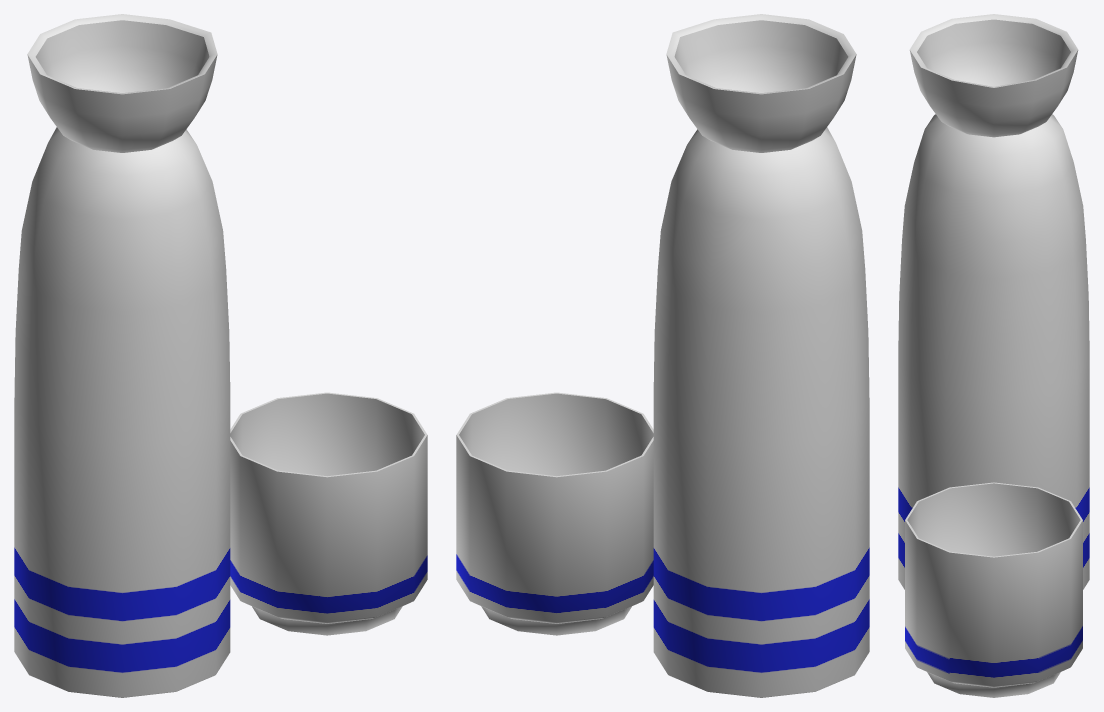
File: tokkuri_tyoko.FBX
3 views of the same model, side by side, from view 1: azimuth 30°, elevation 25°; view 2: azimuth 150°, elevation 25°; view 3: azimuth 270°, elevation 25° (orthographic). The views are drawn at different scales.
Visible parts, largest first — view 1: Cylinder002, Cylinder003; view 2: Cylinder002, Cylinder003; view 3: Cylinder002, Cylinder003.
Part boxes in pixels (bbox=[...]): Cylinder002: bbox=[14, 14, 230, 697]; Cylinder003: bbox=[230, 392, 427, 635]; Cylinder002: bbox=[653, 14, 869, 697]; Cylinder003: bbox=[456, 392, 653, 635]; Cylinder002: bbox=[898, 14, 1089, 589]; Cylinder003: bbox=[905, 482, 1082, 697].
Bounding box in the file's own units: 11.53 × 17.12 × 5.6.
2 materials, 2 textured.
